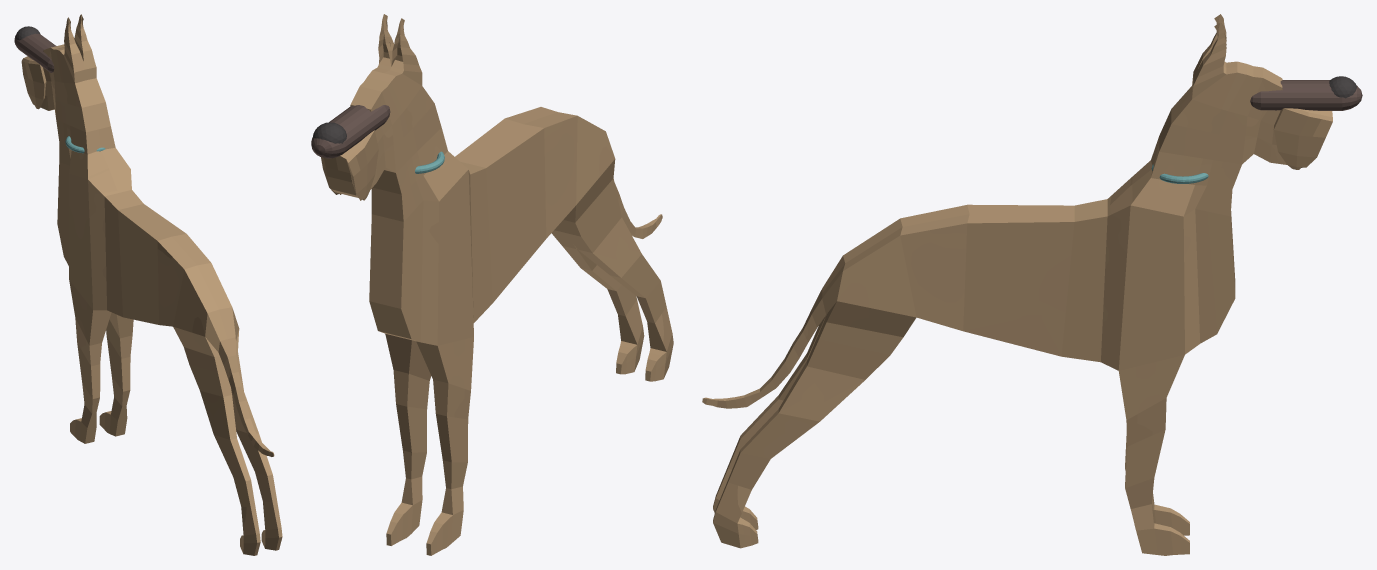
The model's file is gus-v3.glb.
The picture shows the model from 3 angles, left to right: view 1: azimuth 30°, elevation 25°; view 2: azimuth 150°, elevation 25°; view 3: azimuth 270°, elevation 25°; orthographic projection. The views are drawn at different scales.
Parts seen in each view (by area): view 1: Cube_fd724f, Cube, Gus_Muzzle; view 2: Cube_fd724f, Cube, Gus_Muzzle, Gus_Nose; view 3: Cube_fd724f, Cube, Gus_Muzzle.
Part boxes in pixels (<box>): Cube_fd724f: <box>40,34,282,555</box>; Cube: <box>21,14,274,526</box>; Gus_Muzzle: <box>14,33,56,72</box>; Cube_fd724f: <box>339,86,673,555</box>; Cube: <box>321,14,663,462</box>; Gus_Muzzle: <box>311,105,390,158</box>; Gus_Nose: <box>313,122,346,143</box>; Cube_fd724f: <box>707,37,1285,555</box>; Cube: <box>702,14,1332,512</box>; Gus_Muzzle: <box>1250,80,1362,110</box>.
Size of the model in its own units: 0.4259 by 3.81 by 4.33.
